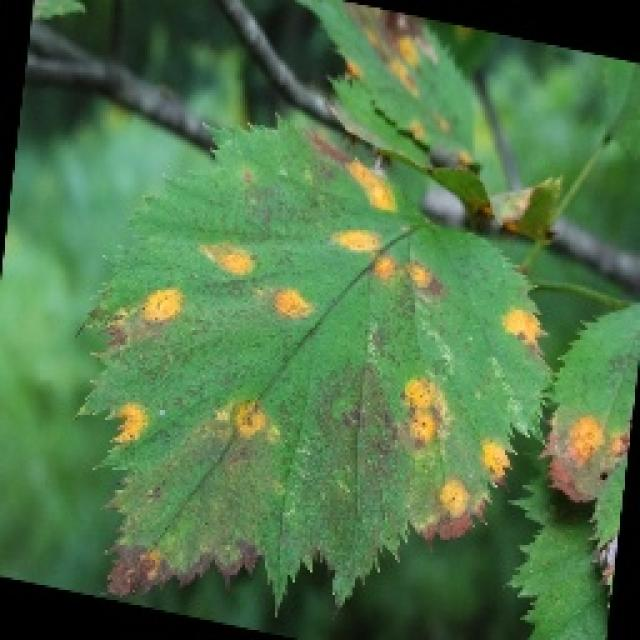Gymnosporangium_Rusts: (39, 24, 640, 543)
